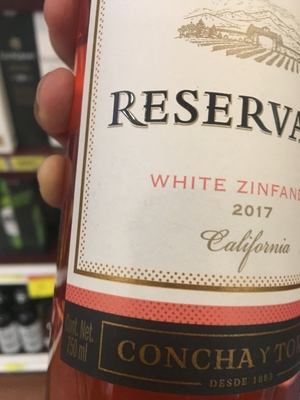reservado white zinfandel: (45, 1, 300, 398)
